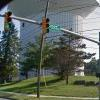Traffic light: (33, 12, 53, 43)
